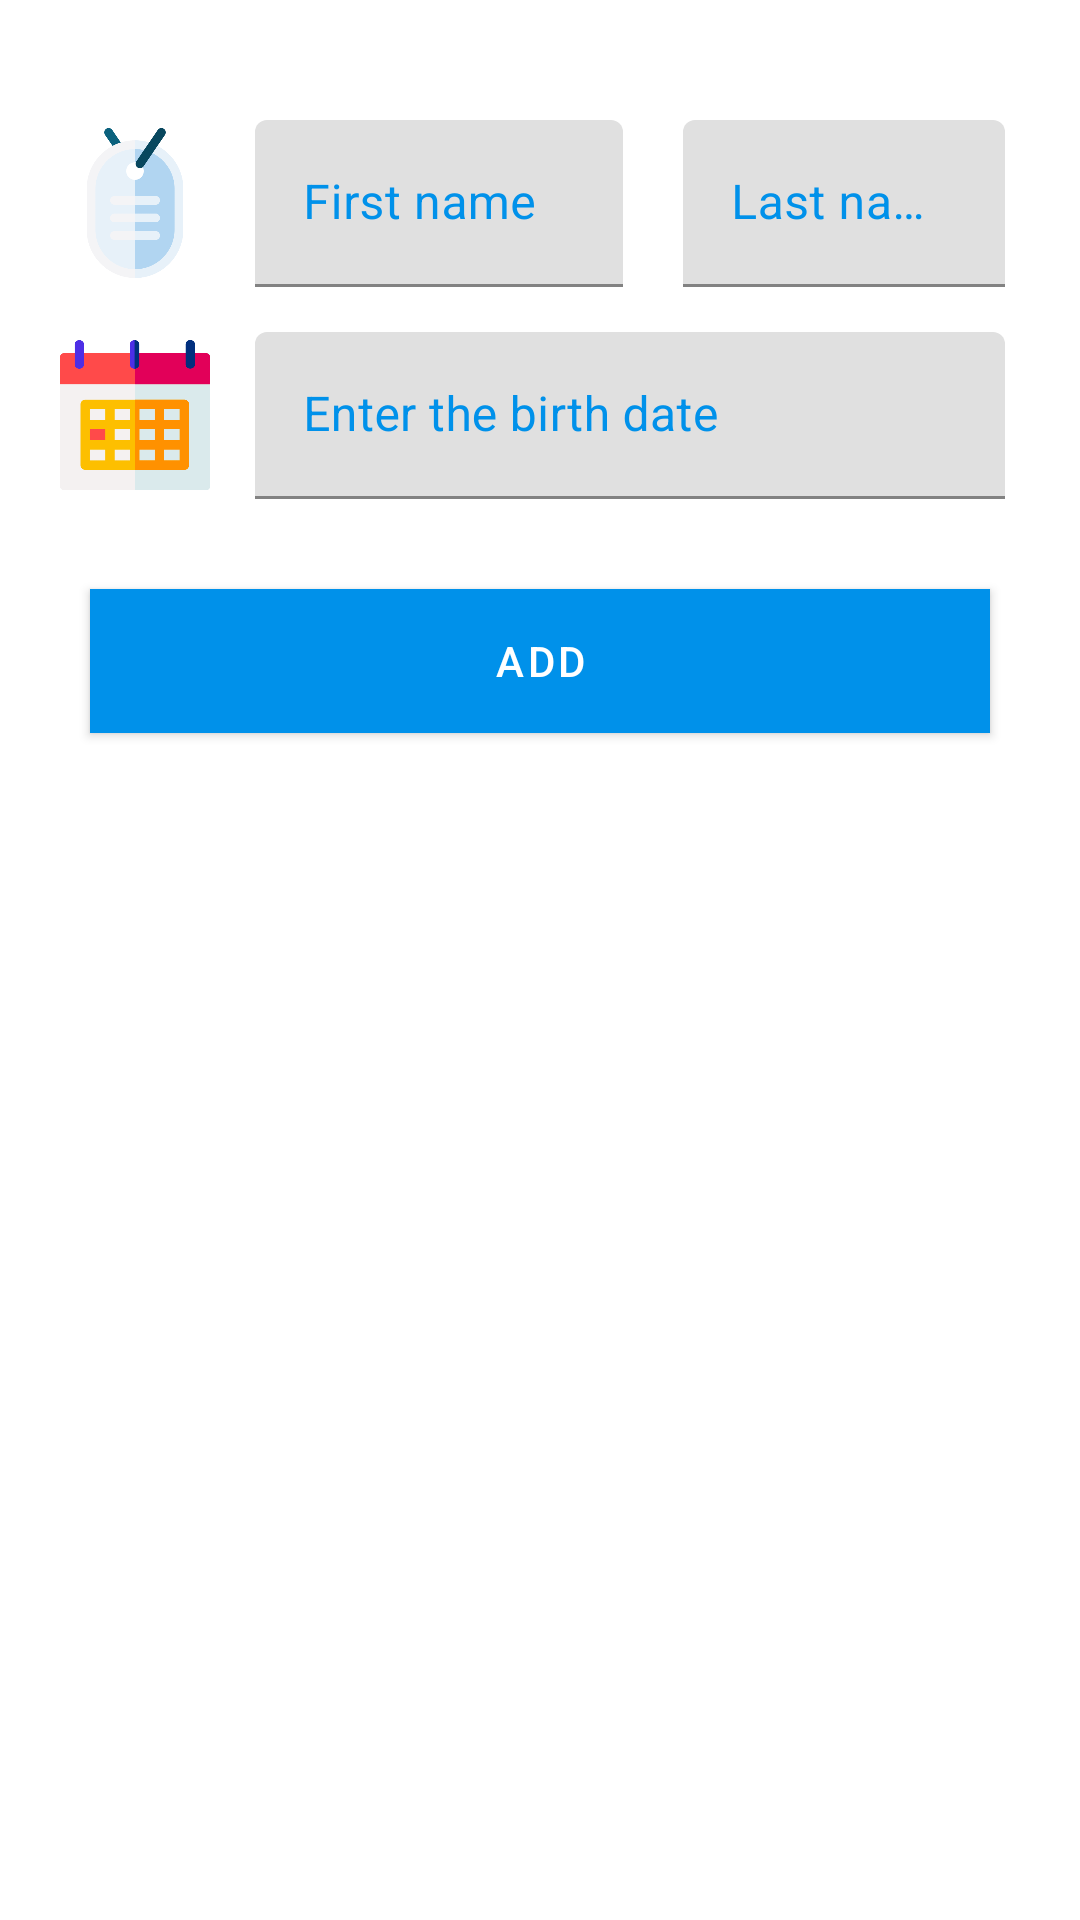

Icon click points for this 1080×1920 phone screenshot, format [x,y]:
im calendar manager: [135,415]
im name: [135,203]
